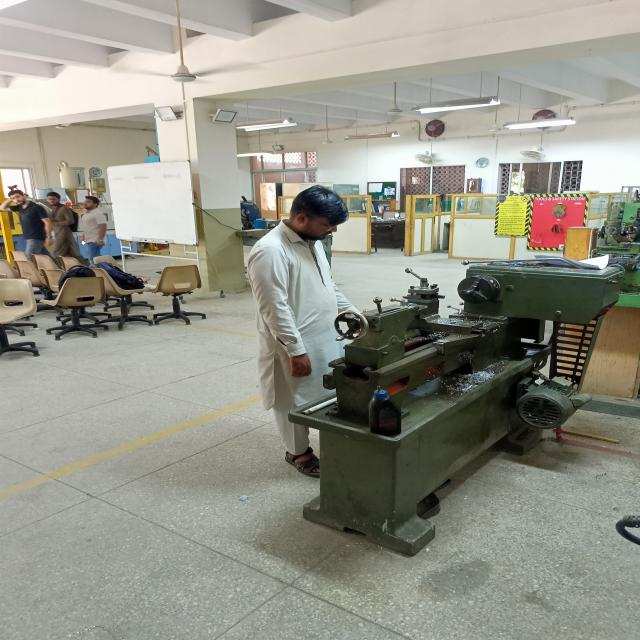dress: (242, 216, 365, 460), (2, 188, 49, 276), (42, 188, 81, 274), (79, 192, 114, 266)
glasses: (314, 216, 341, 236)
